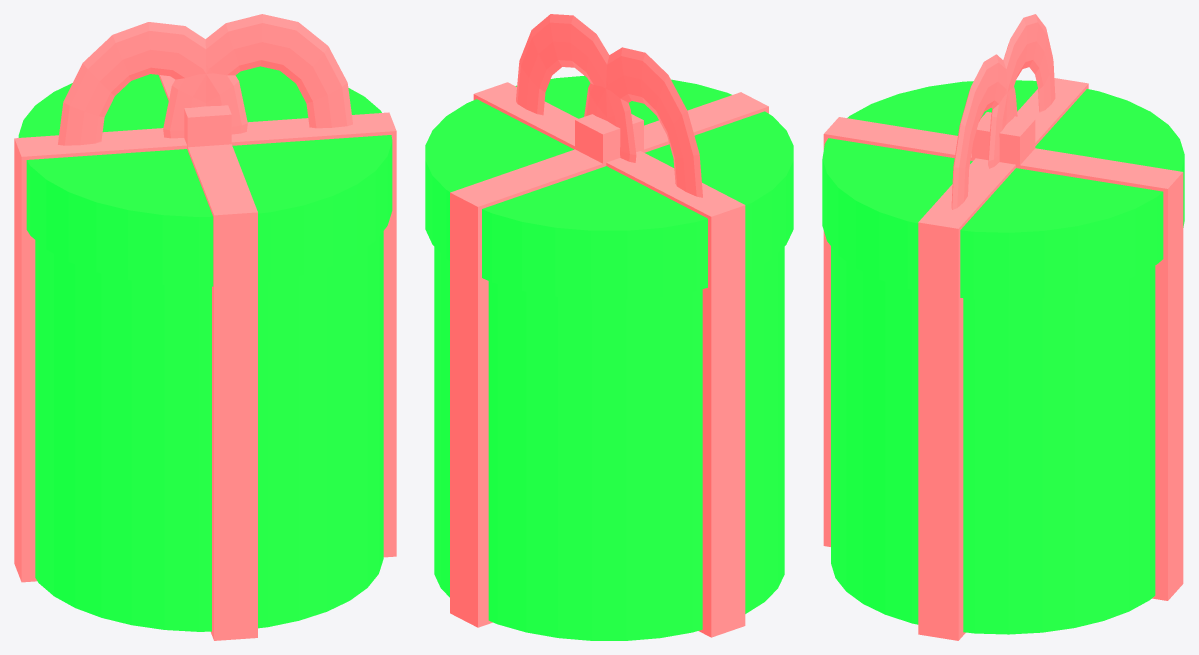
File: Tmpl_Round_Root_195.glb
The picture shows the model from 3 angles, left to right: view 1: azimuth 30°, elevation 25°; view 2: azimuth 150°, elevation 25°; view 3: azimuth 270°, elevation 25°; orthographic projection. The views are drawn at different scales.
Parts seen in each view (by area): view 1: Tmpl_Round_Base.193, Tmpl_Round_Lid.193, Tmpl_Round_Ribbon_Y.193, Tmpl_Round_Ribbon_X.193, Tmpl_Round_BowL.193, Tmpl_Round_BowR.193, Tmpl_Round_BowKnot.193; view 2: Tmpl_Round_Base.193, Tmpl_Round_Lid.193, Tmpl_Round_Ribbon_X.193, Tmpl_Round_Ribbon_Y.193, Tmpl_Round_BowL.193, Tmpl_Round_BowR.193, Tmpl_Round_BowKnot.193; view 3: Tmpl_Round_Base.193, Tmpl_Round_Lid.193, Tmpl_Round_Ribbon_X.193, Tmpl_Round_Ribbon_Y.193, Tmpl_Round_BowR.193, Tmpl_Round_BowL.193, Tmpl_Round_BowKnot.193.
Part boxes in pixels (x1,y1,x2,y2): Tmpl_Round_Base.193: (35, 231, 383, 631); Tmpl_Round_Lid.193: (18, 66, 392, 286); Tmpl_Round_Ribbon_Y.193: (158, 75, 257, 640); Tmpl_Round_Ribbon_X.193: (14, 112, 396, 582); Tmpl_Round_BowL.193: (163, 14, 352, 138); Tmpl_Round_BowR.193: (58, 22, 247, 145); Tmpl_Round_BowKnot.193: (184, 105, 231, 149); Tmpl_Round_Base.193: (434, 247, 784, 640); Tmpl_Round_Lid.193: (425, 75, 793, 299); Tmpl_Round_Ribbon_X.193: (473, 82, 745, 637); Tmpl_Round_Ribbon_Y.193: (450, 92, 768, 627); Tmpl_Round_BowL.193: (516, 14, 636, 162); Tmpl_Round_BowR.193: (584, 47, 702, 197); Tmpl_Round_BowKnot.193: (575, 114, 643, 166); Tmpl_Round_Base.193: (831, 246, 1155, 634); Tmpl_Round_Lid.193: (822, 80, 1184, 300); Tmpl_Round_Ribbon_X.193: (918, 78, 1088, 640); Tmpl_Round_Ribbon_Y.193: (823, 117, 1183, 600); Tmpl_Round_BowR.193: (988, 14, 1055, 168); Tmpl_Round_BowL.193: (951, 54, 1017, 209); Tmpl_Round_BowKnot.193: (971, 112, 1035, 168).
Size of the model in its own units: 0.9197 by 1.47 by 0.9197.
